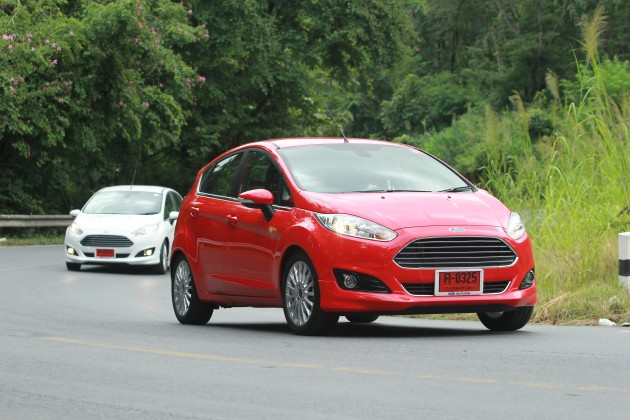car: (169, 134, 541, 334), (64, 186, 186, 270)
